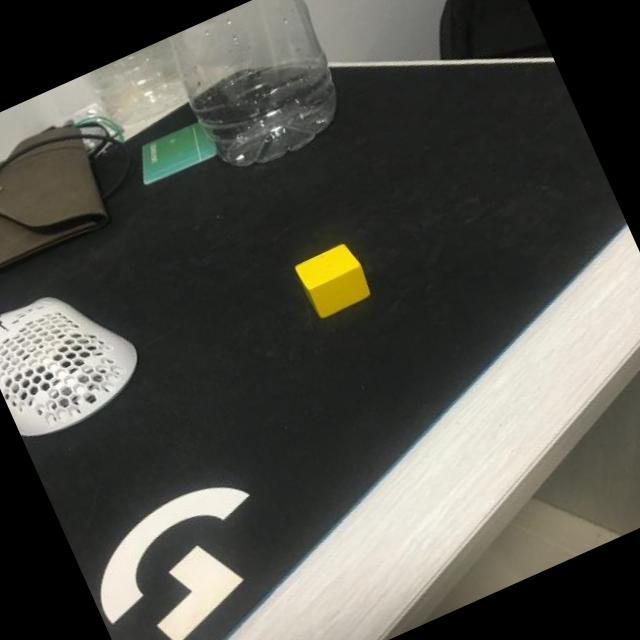yellow: (292, 240, 376, 322)
